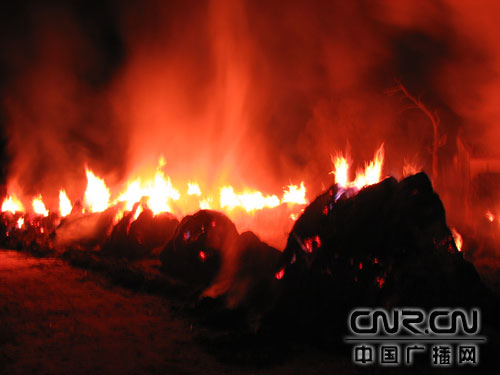fire: (116, 172, 183, 216), (328, 144, 385, 186), (216, 181, 283, 210), (83, 164, 113, 214), (182, 175, 212, 209), (29, 187, 53, 221), (276, 181, 310, 203), (57, 187, 78, 219), (1, 184, 23, 211)
